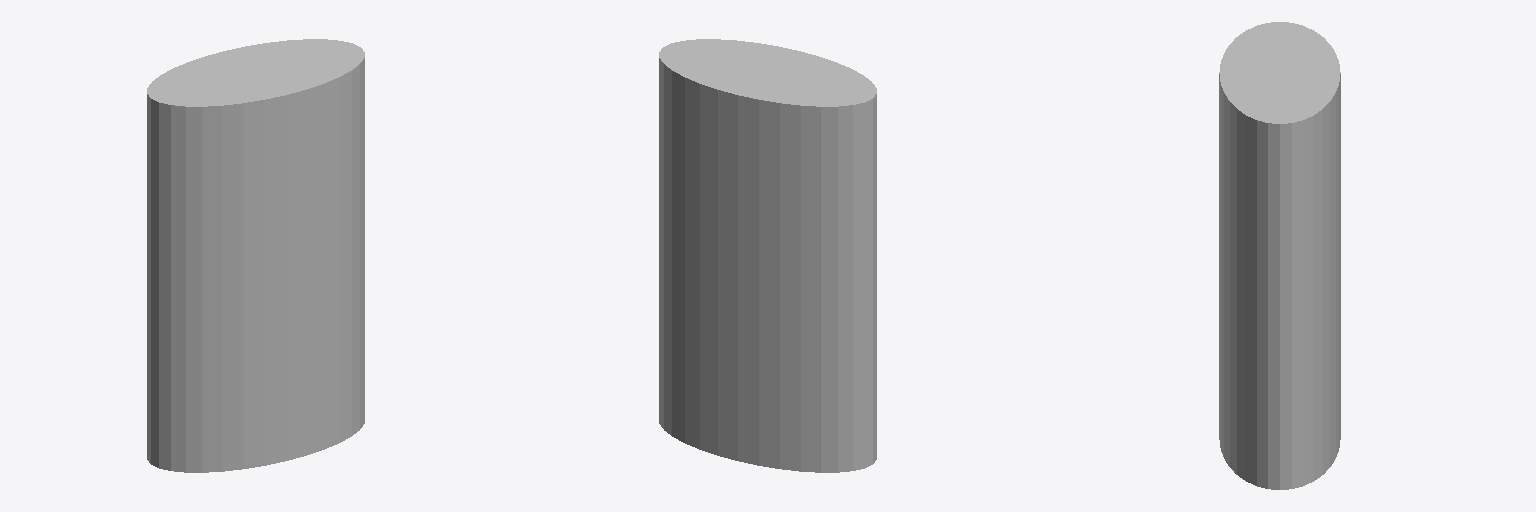
The model's file is building5.obj.
3 renders of one model, left to right at view 1: azimuth 30°, elevation 25°; view 2: azimuth 150°, elevation 25°; view 3: azimuth 270°, elevation 25°, orthographic.
Parts seen in each view (by area): view 1: Cylinder; view 2: Cylinder; view 3: Cylinder.
Part boxes in pixels (x1,y1,x2,y2): Cylinder: (147,39,364,472); Cylinder: (659,39,876,472); Cylinder: (1219,22,1340,489).
Bounding box in the file's own units: 12 × 20 × 6.